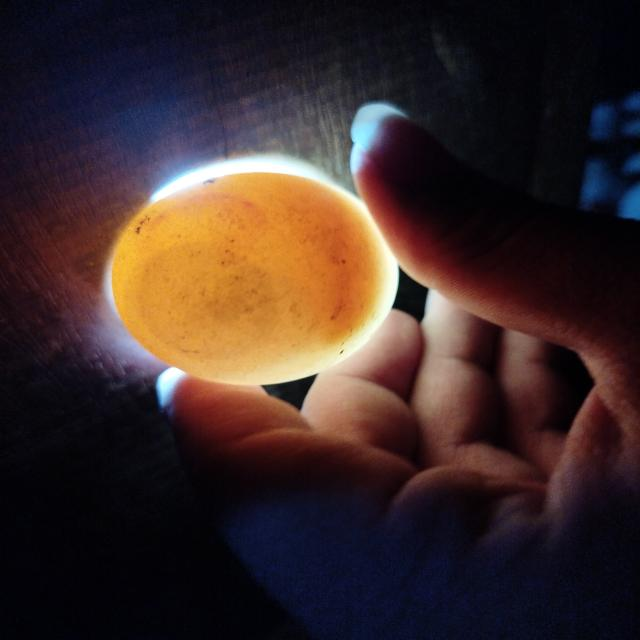Camara de Ar: (138, 241, 271, 360)
